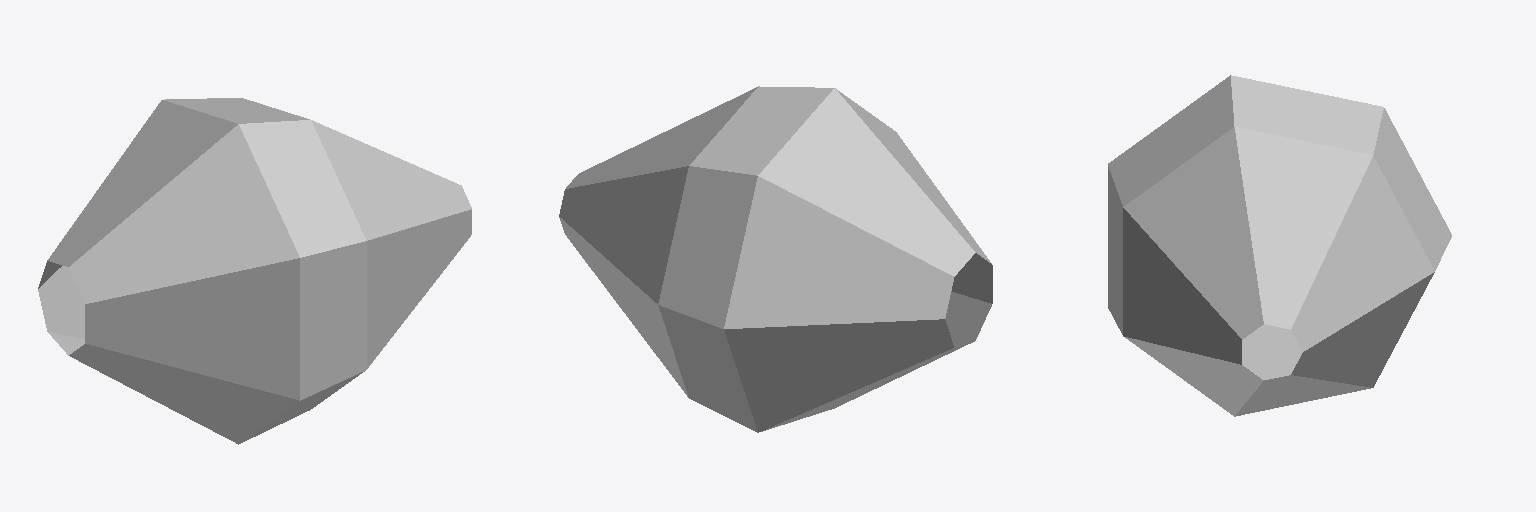
Rendered from barrier.obj.
The picture shows the model from 3 angles: view 1: azimuth 30°, elevation 25°; view 2: azimuth 150°, elevation 25°; view 3: azimuth 270°, elevation 25°; orthographic projection.
Bounding box in the file's own units: 7.1 × 5.51 × 5.37.